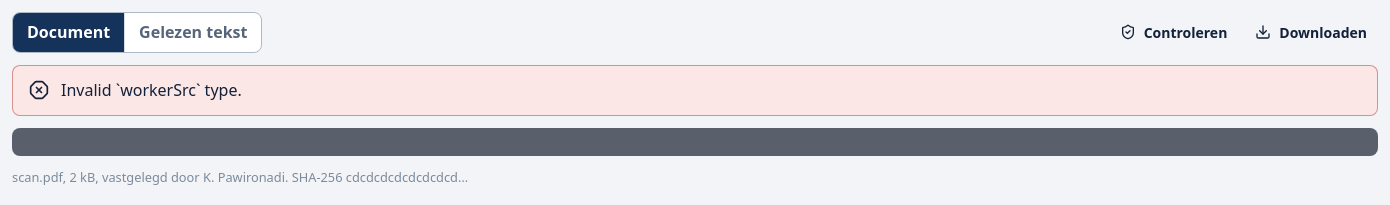
Test: Document viewer › labels text read by text recognition as an aid, not as the record
Click the button "Gelezen tekst": (193, 32) [124,13,262,52]
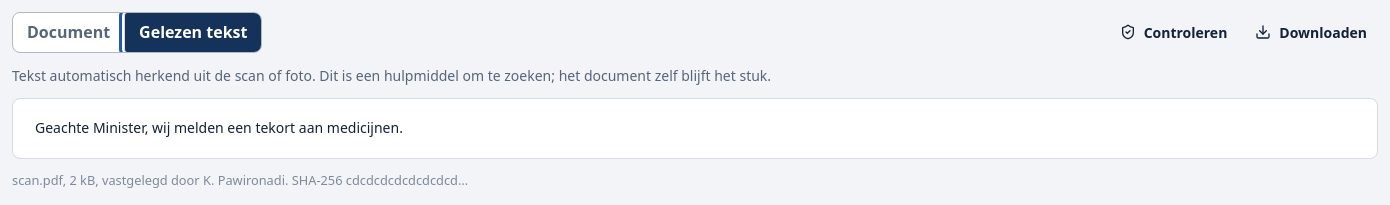
Expected: the text "Geachte Minister, wij melden een tekort aan medicijnen." is shown, [12,98,1378,159]
